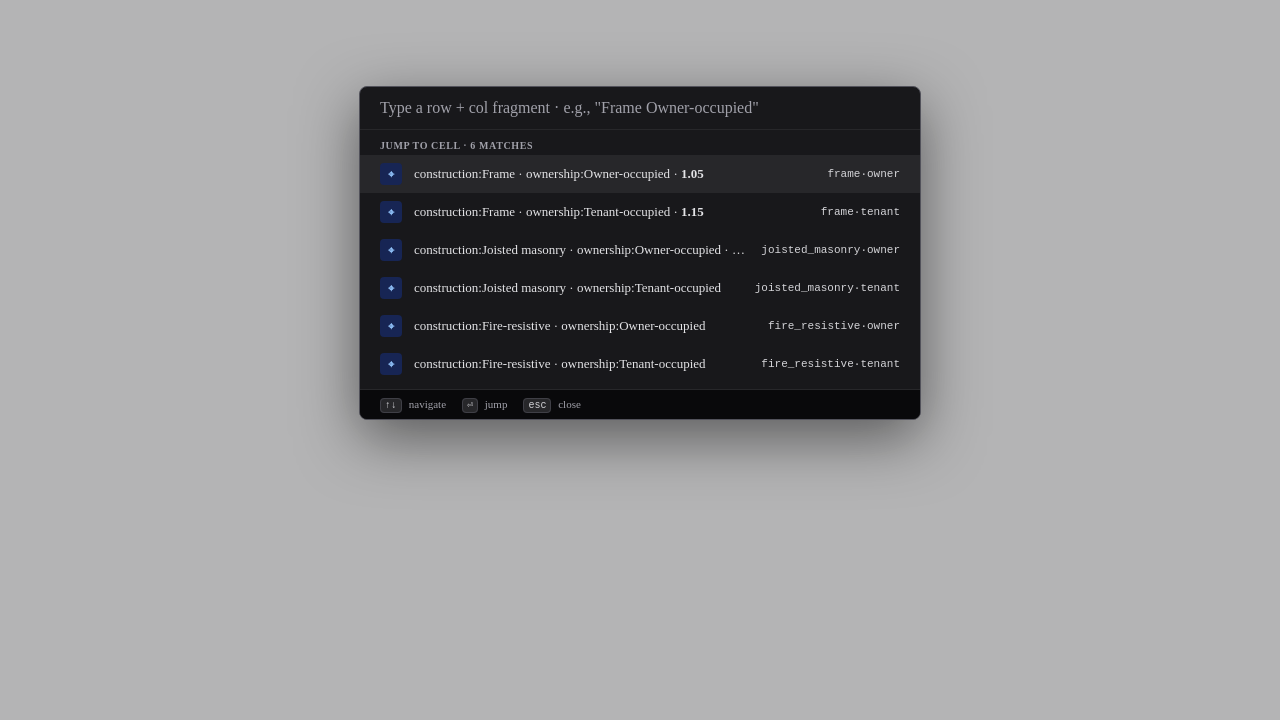
<FactorTableCmdK> matches › typing a row label narrows to that row's cells
Type "frame" into the field with test id "rater-ft-cmdk-input" at (660, 109), box [360,87,960,130]
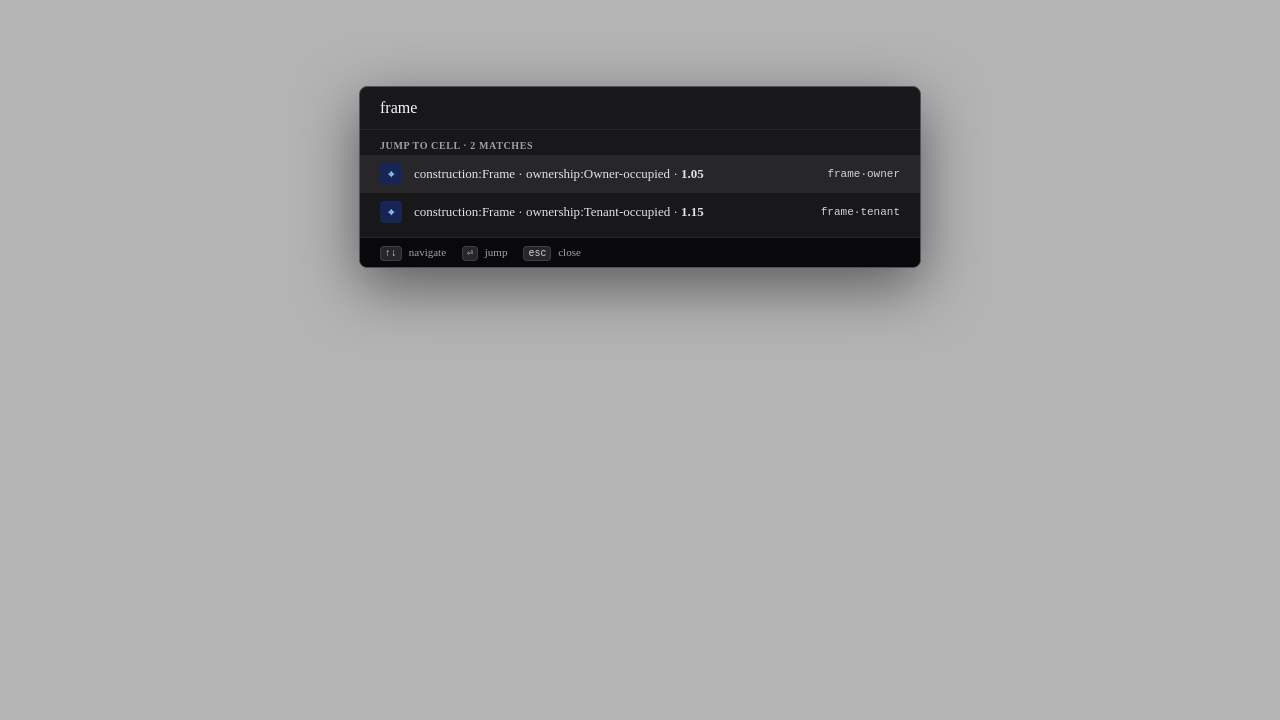
expect the list item with test id "rater-ft-cmdk-row-frame-owner" is shown: met, box [360,155,920,193]
expect the list item with test id "rater-ft-cmdk-row-joisted_masonry-owner" is gone: met
